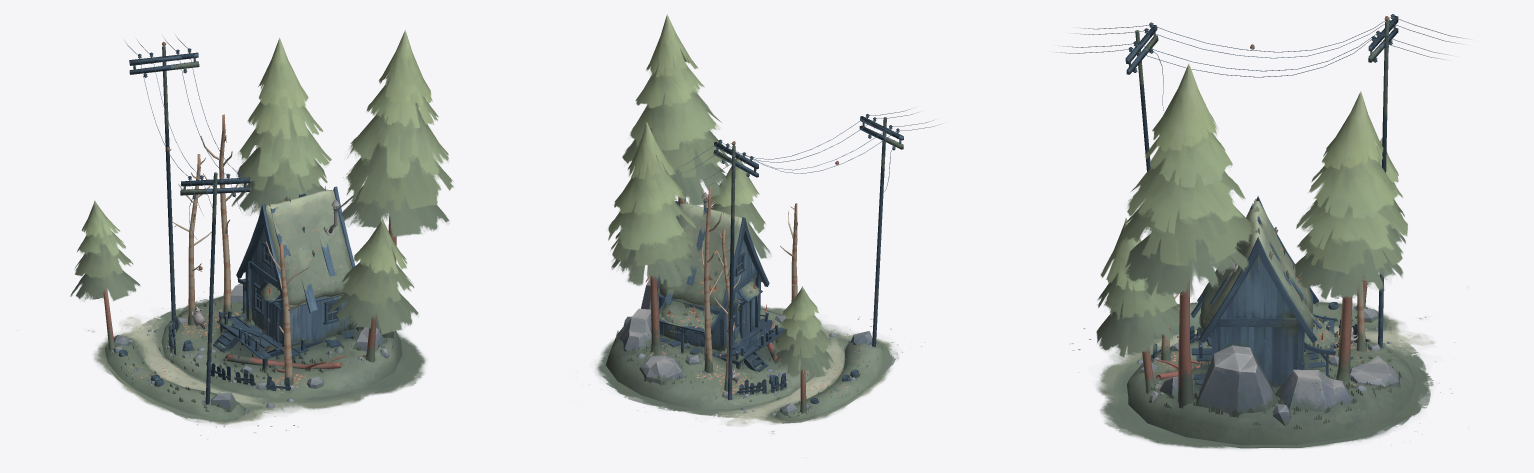
Rendered from model_forest_house.glb.
3 renders of one model, left to right at view 1: azimuth 30°, elevation 25°; view 2: azimuth 150°, elevation 25°; view 3: azimuth 270°, elevation 25°, orthographic. The views are drawn at different scales.
Visible parts, largest first — view 1: RedwoodAlpha, Ground, GroundPlane, RoofMoss, House, Powerlines, Rocks, HouseWoodFloor, BTree.001, BTree, BTree.002, Grass.Ground (+5 smaller); view 2: RedwoodAlpha, Ground, GroundPlane, Powerlines, RoofMoss, House, Rocks, BTree.001, SideRoofBase, HouseWoodFloor, Redwood, Grass.Ground (+4 smaller); view 3: RedwoodAlpha, Ground, Rocks, House, GroundPlane, Powerlines, RoofMoss, Redwood, Grass.Ground, SideRoofBase, Roof.009, HouseWoodFloor (+2 smaller).
Part boxes in pixels (x1,y1,x2,y2): RedwoodAlpha: (70, 30, 453, 335); Ground: (105, 296, 402, 419); GroundPlane: (88, 292, 426, 439); RoofMoss: (265, 189, 351, 305); House: (236, 186, 355, 346); Powerlines: (129, 46, 250, 404); Rocks: (113, 283, 385, 411); HouseWoodFloor: (217, 313, 354, 359); BTree.001: (200, 114, 237, 316); BTree: (266, 241, 310, 385); BTree.002: (172, 154, 211, 325); Grass.Ground: (107, 295, 394, 412); RedwoodAlpha: (608, 14, 834, 377); Ground: (606, 308, 884, 423); GroundPlane: (595, 305, 924, 433); Powerlines: (713, 114, 903, 399); RoofMoss: (659, 203, 742, 306); House: (657, 201, 769, 350); Rocks: (619, 275, 872, 416); BTree.001: (701, 186, 722, 372); SideRoofBase: (651, 300, 718, 334); HouseWoodFloor: (660, 318, 785, 362); Redwood: (645, 195, 806, 413); Grass.Ground: (613, 317, 881, 417); RedwoodAlpha: (1096, 63, 1407, 358); Ground: (1127, 302, 1415, 448); Rocks: (1140, 306, 1400, 426); House: (1197, 196, 1318, 386); GroundPlane: (1069, 300, 1454, 448); Powerlines: (1125, 14, 1398, 347); RoofMoss: (1199, 201, 1314, 330); Redwood: (1142, 275, 1372, 406); Grass.Ground: (1150, 303, 1401, 429); SideRoofBase: (1304, 314, 1335, 355); Roof.009: (1190, 203, 1322, 328); HouseWoodFloor: (1191, 336, 1325, 385).
Size of the model in its own units: 10.55 by 10.49 by 12.89.
Materials: 14 (14 with a texture image).
